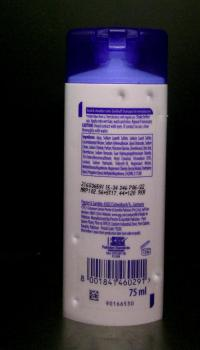dent_unacceptable: (69, 289, 85, 312), (148, 262, 163, 286), (114, 88, 132, 107), (71, 231, 84, 249), (142, 90, 158, 104)
